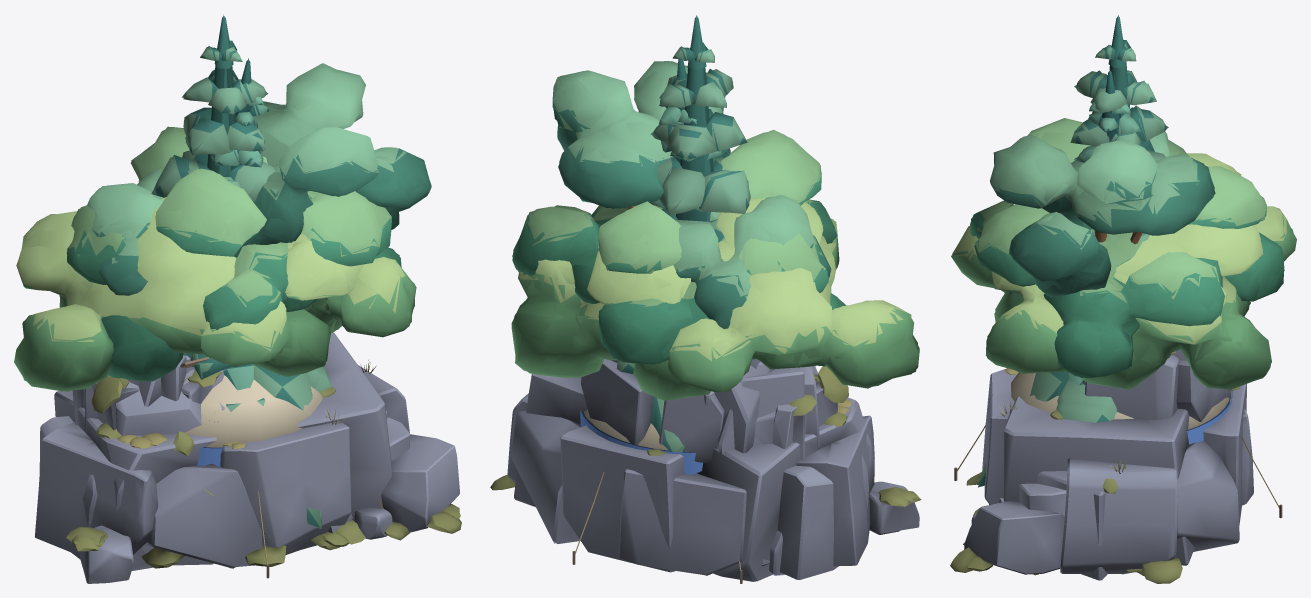
Rendered from props-03f3df46.glb.
3 renders of one model, left to right at view 1: azimuth 30°, elevation 25°; view 2: azimuth 150°, elevation 25°; view 3: azimuth 270°, elevation 25°, orthographic. The views are drawn at different scales.
Visible parts, largest first — view 1: cliff-1-stone, tree-oak-2-canopy, tree-oak-1-canopy, tree-oak-3-canopy, tree-oak-2-far-canopy, tree-oak-1-far-canopy, tree-oak-3-far-canopy, tree-pine-1-crown, cliff-2-stone, tent-canvas, tree-pine-1-far-crown, tree-pine-2-crown; view 2: cliff-1-stone, tree-oak-2-canopy, tree-oak-1-canopy, tree-oak-3-canopy, tree-oak-2-far-canopy, tree-pine-1-crown, tree-oak-1-far-canopy, tree-oak-3-far-canopy, cliff-2-stone, tree-pine-1-far-crown, tree-pine-2-crown, tent-team (+1 smaller); view 3: cliff-1-stone, tree-oak-1-canopy, tree-oak-3-canopy, tree-oak-2-canopy, tree-oak-1-far-canopy, tree-oak-2-far-canopy, tree-oak-3-far-canopy, tree-pine-1-crown, tree-pine-1-far-crown, tree-pine-2-crown, tent-canvas, cliff-2-stone (+1 smaller).
Boxes of the visible parts, x1,y1,x2,y2 form: cliff-1-stone: (35,332,461,583); tree-oak-2-canopy: (14,180,415,391); tree-oak-1-canopy: (66,127,401,381); tree-oak-3-canopy: (88,63,431,295); tree-oak-2-far-canopy: (14,197,416,391); tree-oak-1-far-canopy: (67,126,399,381); tree-oak-3-far-canopy: (87,63,431,295); tree-pine-1-crown: (152,16,351,528); cliff-2-stone: (72,355,409,568); tent-canvas: (185,375,322,447); tree-pine-1-far-crown: (151,14,331,527); tree-pine-2-crown: (210,59,268,390); cliff-1-stone: (490,359,921,581); tree-oak-2-canopy: (511,198,919,400); tree-oak-1-canopy: (512,131,840,366); tree-oak-3-canopy: (552,61,831,328); tree-oak-2-far-canopy: (512,199,918,400); tree-pine-1-crown: (616,16,750,451); tree-oak-1-far-canopy: (512,129,846,365); tree-oak-3-far-canopy: (552,61,831,328); cliff-2-stone: (704,366,848,575); tree-pine-1-far-crown: (617,15,747,452); tree-pine-2-crown: (649,59,721,212); tent-team: (580,410,702,474); cliff-1-stone: (950,349,1253,583); tree-oak-1-canopy: (970,119,1284,378); tree-oak-3-canopy: (990,131,1214,296); tree-oak-2-canopy: (952,153,1296,389); tree-oak-1-far-canopy: (971,118,1281,377); tree-oak-2-far-canopy: (951,153,1296,389); tree-oak-3-far-canopy: (990,133,1215,297); tree-pine-1-crown: (978,16,1209,487); tree-pine-1-far-crown: (977,15,1210,484); tree-pine-2-crown: (1067,70,1139,385); tent-canvas: (1011,372,1229,429); cliff-2-stone: (973,483,1143,575).
Bounding box in the file's own units: 5.36 × 6.68 × 4.22.
